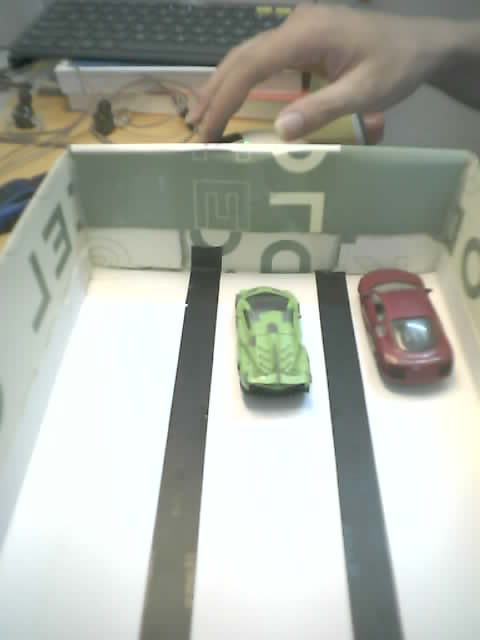vehicle: (357, 264, 455, 398), (235, 287, 312, 416)
